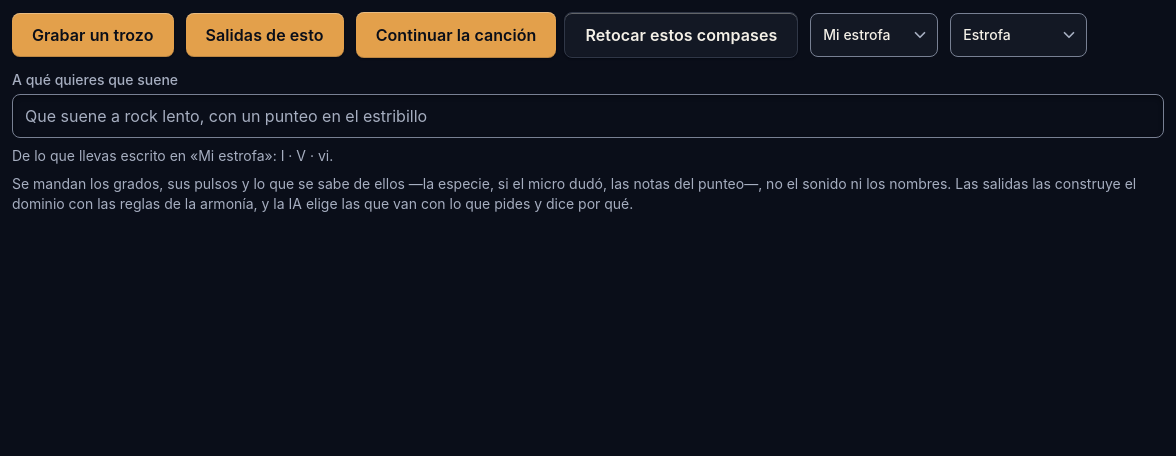
Test: quedarse con una salida › el punteo se queda, y se avisa de que debajo han cambiado acordes
Click the button "Salidas de esto". click: (265, 35)
box: [186,13,344,57]
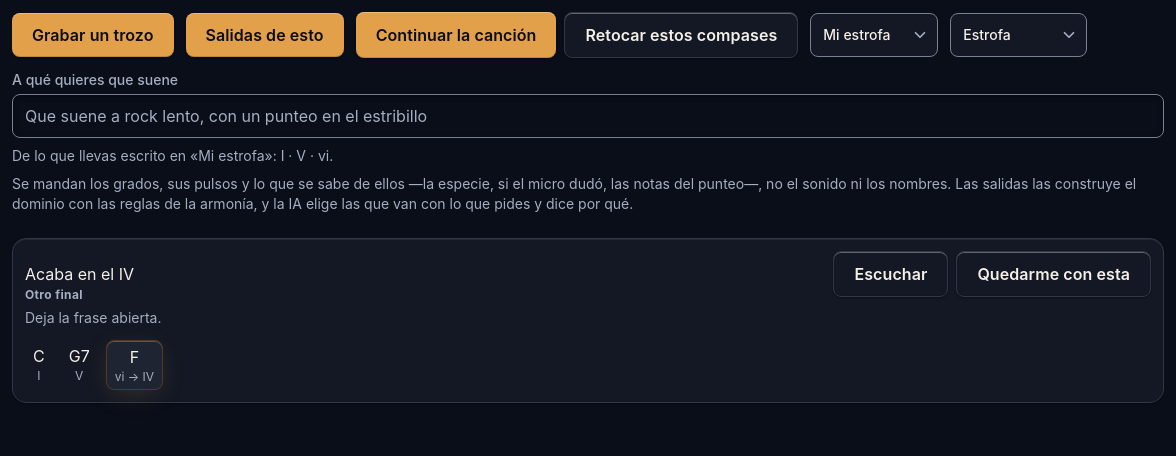
Check: the text "El punteo de la parte sigue" is not shown
Click the button "Quedarme con esta". click: (1054, 274)
box: [956,251,1151,297]
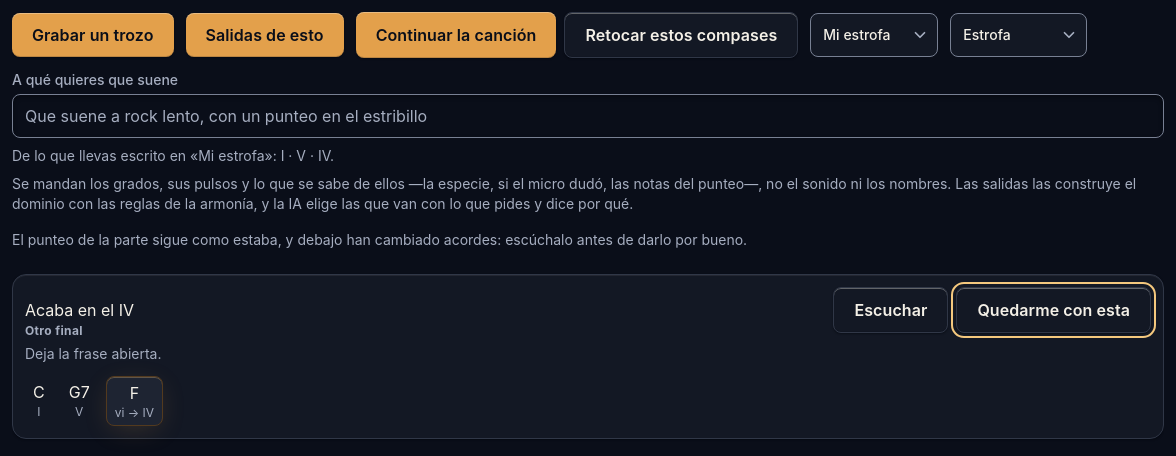
Check: the text "El punteo de la parte sigue como estaba" is shown, box [12,231,747,248]
